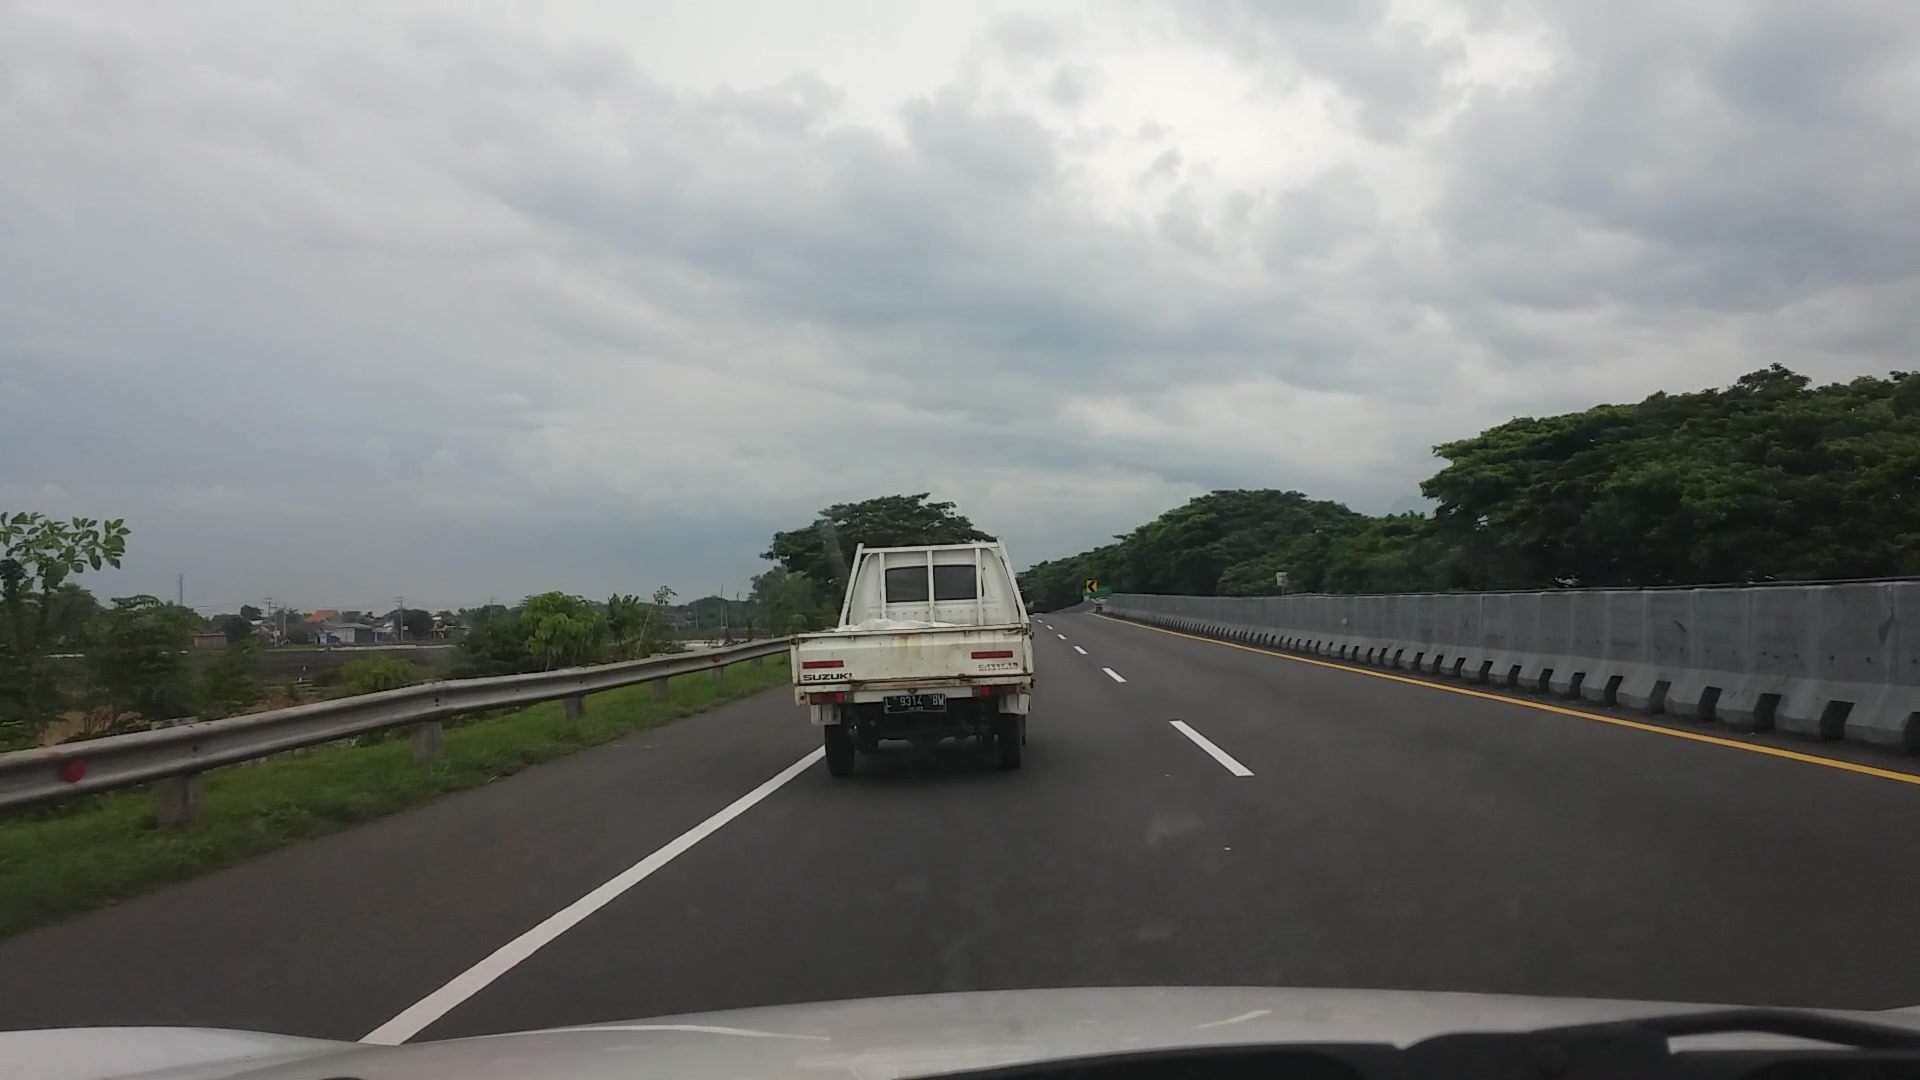plate_positive: (884, 694, 945, 713)
